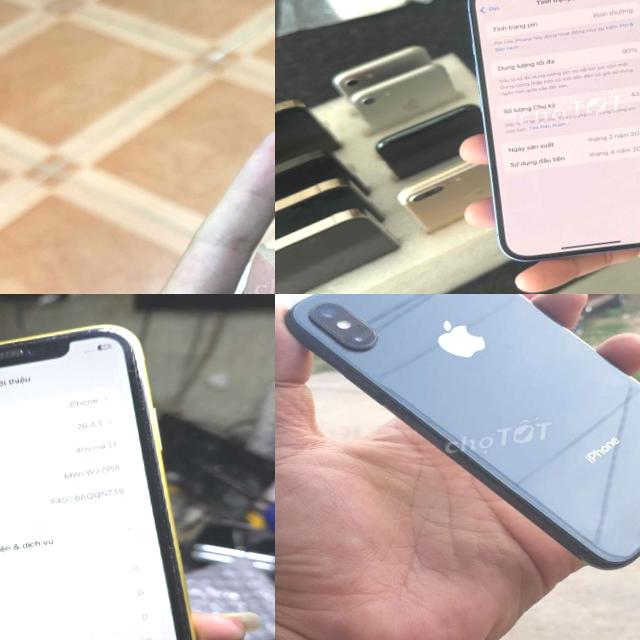gen_11: (0, 308, 225, 640)
gen_16: (469, 0, 640, 261)
gen_x_xs: (287, 294, 640, 569)
scratch: (0, 317, 141, 363), (150, 466, 186, 604), (135, 382, 159, 456), (121, 340, 148, 382)
